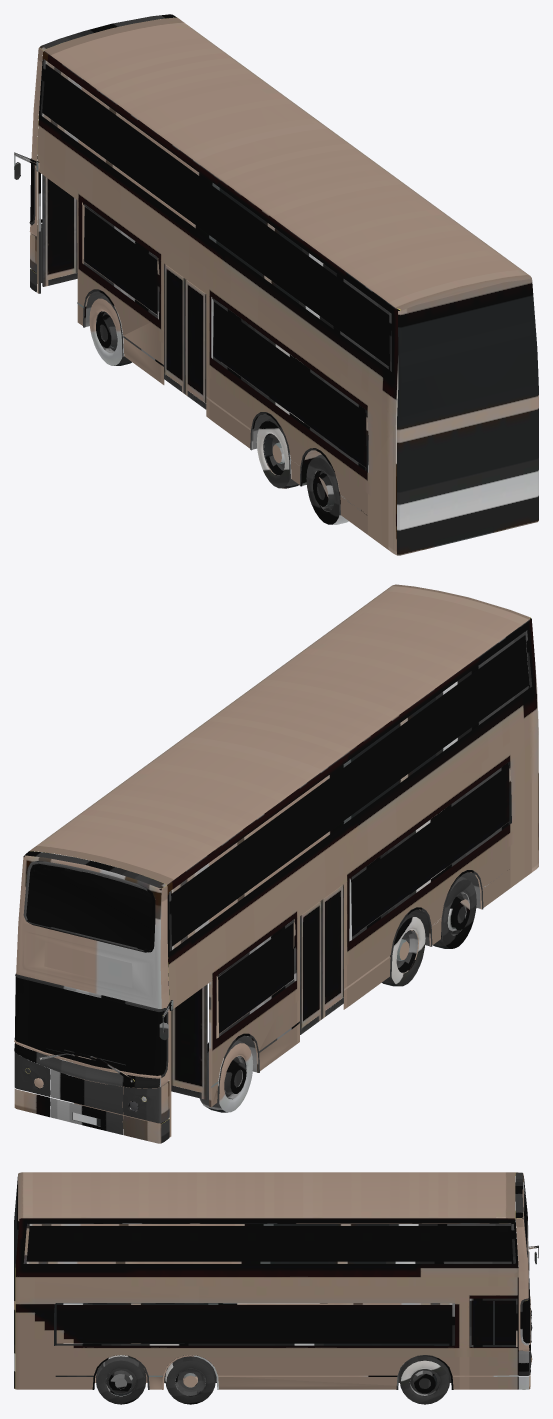
The model's file is bus.glb.
3 renders of one model, top to bottom at view 1: azimuth 30°, elevation 25°; view 2: azimuth 150°, elevation 25°; view 3: azimuth 270°, elevation 25°, orthographic. The views are drawn at different scales.
Visible parts, largest first — view 1: lod0; view 2: lod0; view 3: lod0.
Part boxes in pixels (left/top/right/bottom): lod0: left=14, top=14, right=538, bottom=555; lod0: left=14, top=584, right=538, bottom=1143; lod0: left=14, top=1172, right=538, bottom=1404.
Size of what is drawn, in the model's own units: 2.87 by 4.81 by 12.
1 material, 1 textured.
